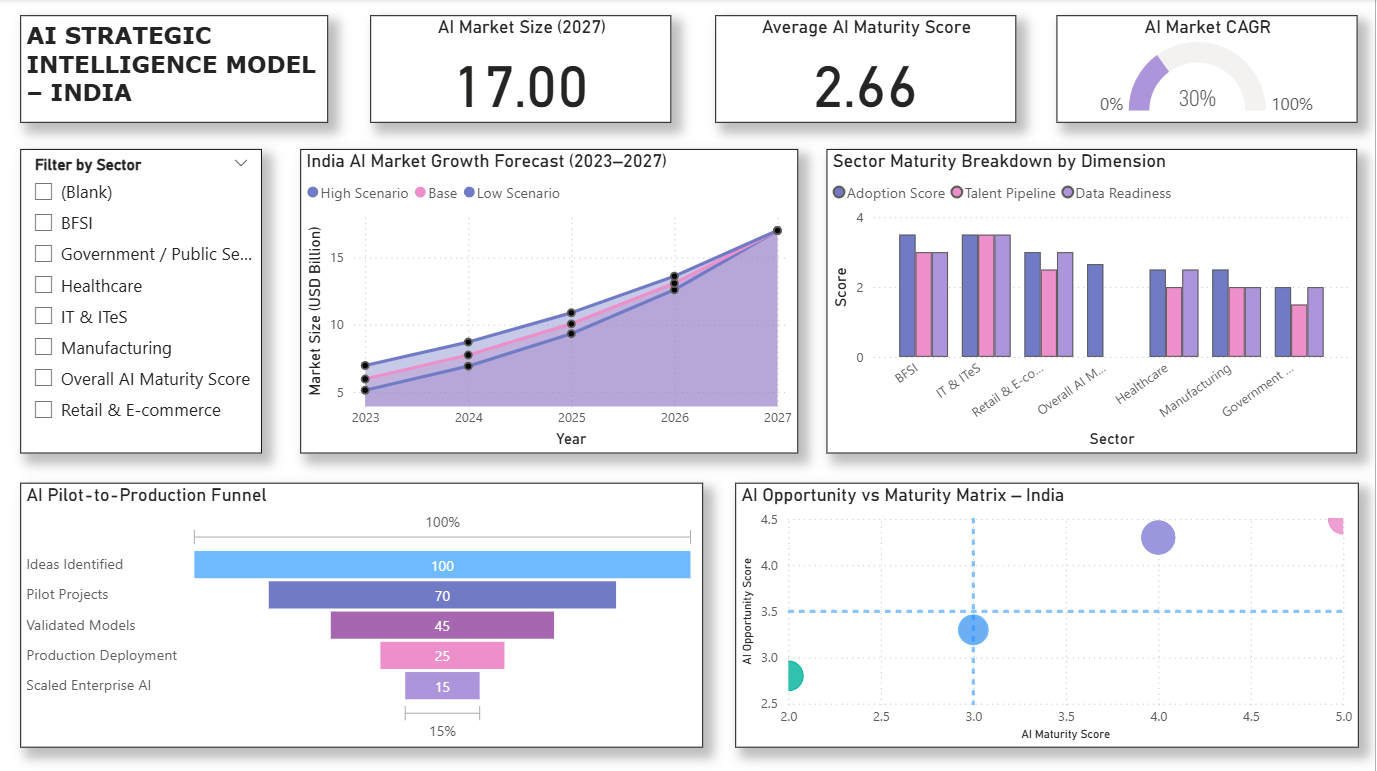

Layout of this report page (visuals, bound fields, positions):
{"tool":"powerbi","page":{"name":"Page 1","canvas":[1280,720],"ordinal":0},"visuals":[{"type":"card","title":"AI Market Size (2027)","fields":{"Values":["Sum(Market_Size_CAGR.Market_Size_Base)"]},"box":[345,15,280,100],"z":0},{"type":"card","title":"Average AI Maturity Score","fields":{"Values":["Avg(Maturity_Index.Weighted_Score)"]},"box":[666.7,15,280,100],"z":1000},{"type":"gauge","title":"AI Market CAGR","fields":{"Y":["Bottlenecks.AI Market CAGR"]},"box":[983.3,15,280,100],"z":2000},{"type":"lineChart","title":"India AI Market Growth Forecast (2023–2027)","fields":{"Category":["Market_Size_CAGR.Year"],"Y":["Sum(Market_Size_CAGR.Market_Size_High)","Sum(Market_Size_CAGR.Market_Size_Base)","Sum(Market_Size_CAGR.Market_Size_Low)"]},"box":[280,140,463.3,283.3],"z":3000},{"type":"funnel","title":"AI Pilot-to-Production Funnel","fields":{"Category":["Bottlenecks.Stage"],"Y":["Sum(Bottlenecks.% of Projects)"]},"box":[19.8,450,634.9,246.5],"z":4000},{"type":"clusteredColumnChart","title":"Sector Maturity Breakdown by Dimension","fields":{"Category":["Maturity_Index.Sector"],"Y":["Sum(Maturity_Index.Adoption_0_4)","Sum(Maturity_Index.Talent_0_4)","Sum(Maturity_Index.Data_0_4)"]},"box":[770,140,493.3,283.3],"z":5000},{"type":"scatterChart","title":"AI Opportunity vs Maturity Matrix – India","fields":{"Y":["Sector_Adoption.Opportunity_Score"],"X":["Sector_Adoption.AI_Adoption_0_5"],"Series":["Sector_Adoption.Sector"],"Size":["Sum(Sector_Adoption.Market_Potential_0_5)"]},"box":[685,450,580,246.7],"z":6000},{"type":"slicer","fields":{"Values":["Maturity_Index.Sector"]},"box":[20,140,225,283.3],"z":7000},{"type":"textbox","box":[20,15,286.7,100],"z":8000}]}

Visuals, with their boxes in screenshot pixels (x1, y1, x2, y2), scaled from the page's 1280x720 canvas onto the 1377x771 screenshot:
"AI Market Size (2027)" card: box(371, 16, 672, 123)
"Average AI Maturity Score" card: box(717, 16, 1018, 123)
"AI Market CAGR" gauge: box(1058, 16, 1359, 123)
"India AI Market Growth Forecast (2023–2027)" lineChart: box(301, 150, 800, 453)
"AI Pilot-to-Production Funnel" funnel: box(21, 482, 704, 746)
"Sector Maturity Breakdown by Dimension" clusteredColumnChart: box(828, 150, 1359, 453)
"AI Opportunity vs Maturity Matrix – India" scatterChart: box(737, 482, 1361, 746)
slicer - Maturity_Index.Sector: box(22, 150, 264, 453)
textbox: box(22, 16, 330, 123)
